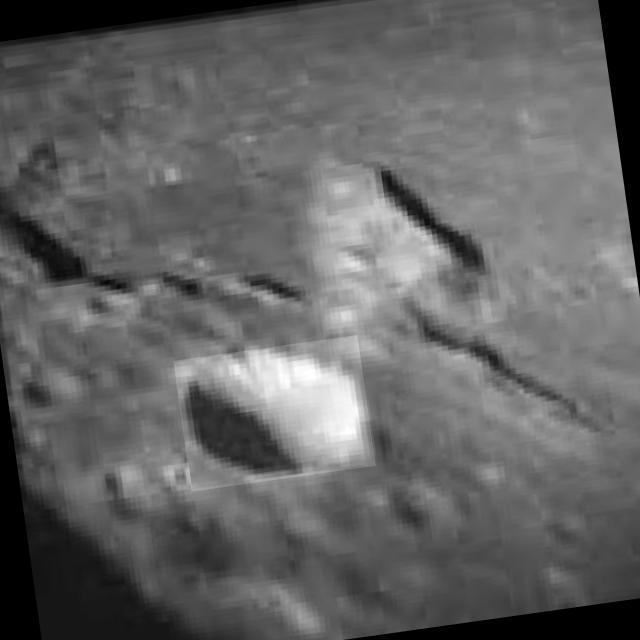crater: (174, 334, 376, 492)
